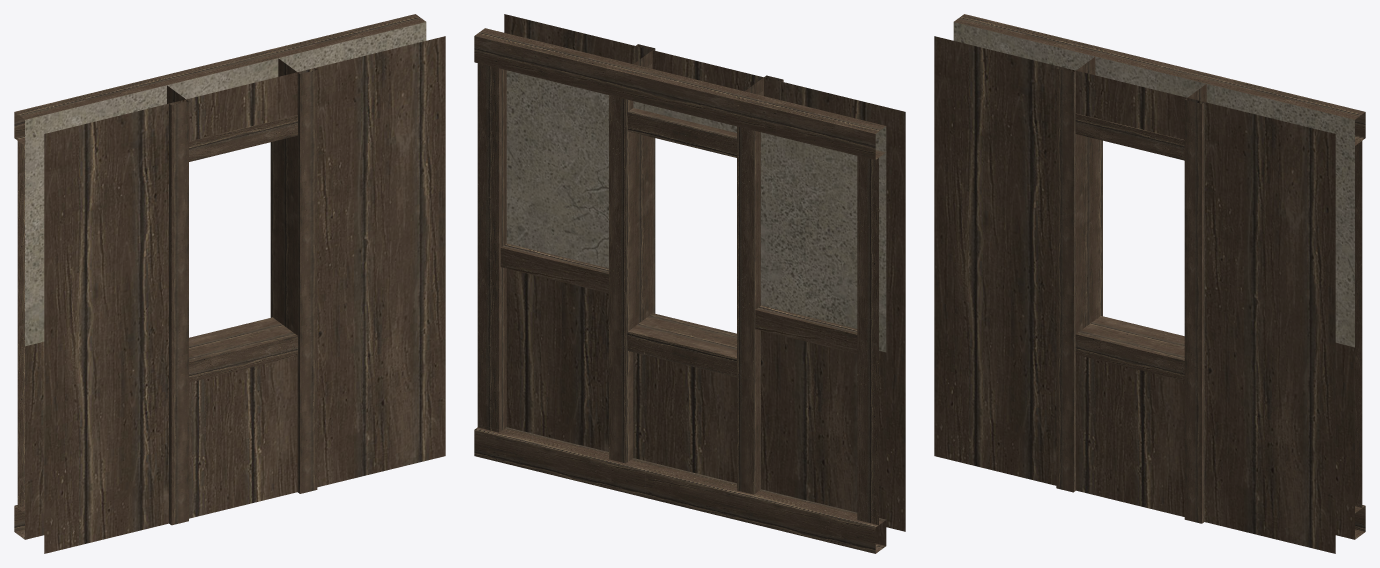
File: ARC1010294.fbx
The picture shows the model from 3 angles, left to right: view 1: azimuth 30°, elevation 25°; view 2: azimuth 150°, elevation 25°; view 3: azimuth 330°, elevation 25°; orthographic projection.
Parts seen in each view (by area): view 1: smARC1010294; view 2: smARC1010294; view 3: smARC1010294.
Part boxes in pixels (bbox=[...]): smARC1010294: bbox=[14, 14, 445, 553]; smARC1010294: bbox=[474, 14, 905, 553]; smARC1010294: bbox=[934, 14, 1365, 553].
Bounding box in the file's own units: 268 × 268 × 37.89.
Materials: 1 (1 with a texture image).
